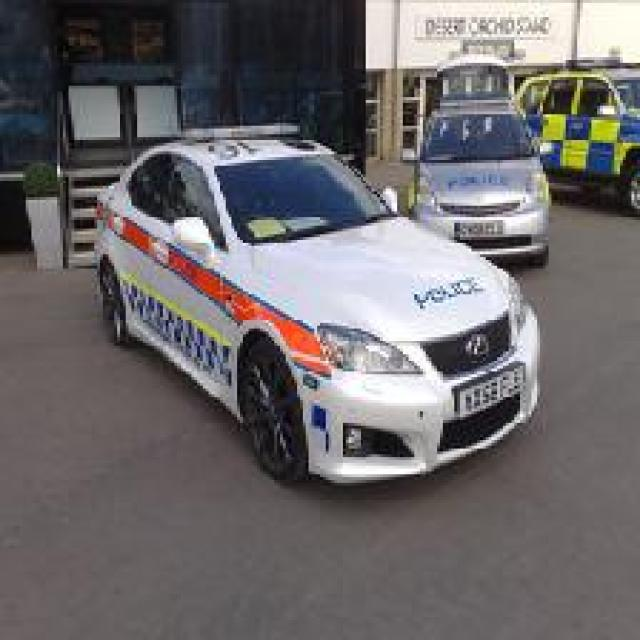Police-car: (88, 120, 543, 486)
